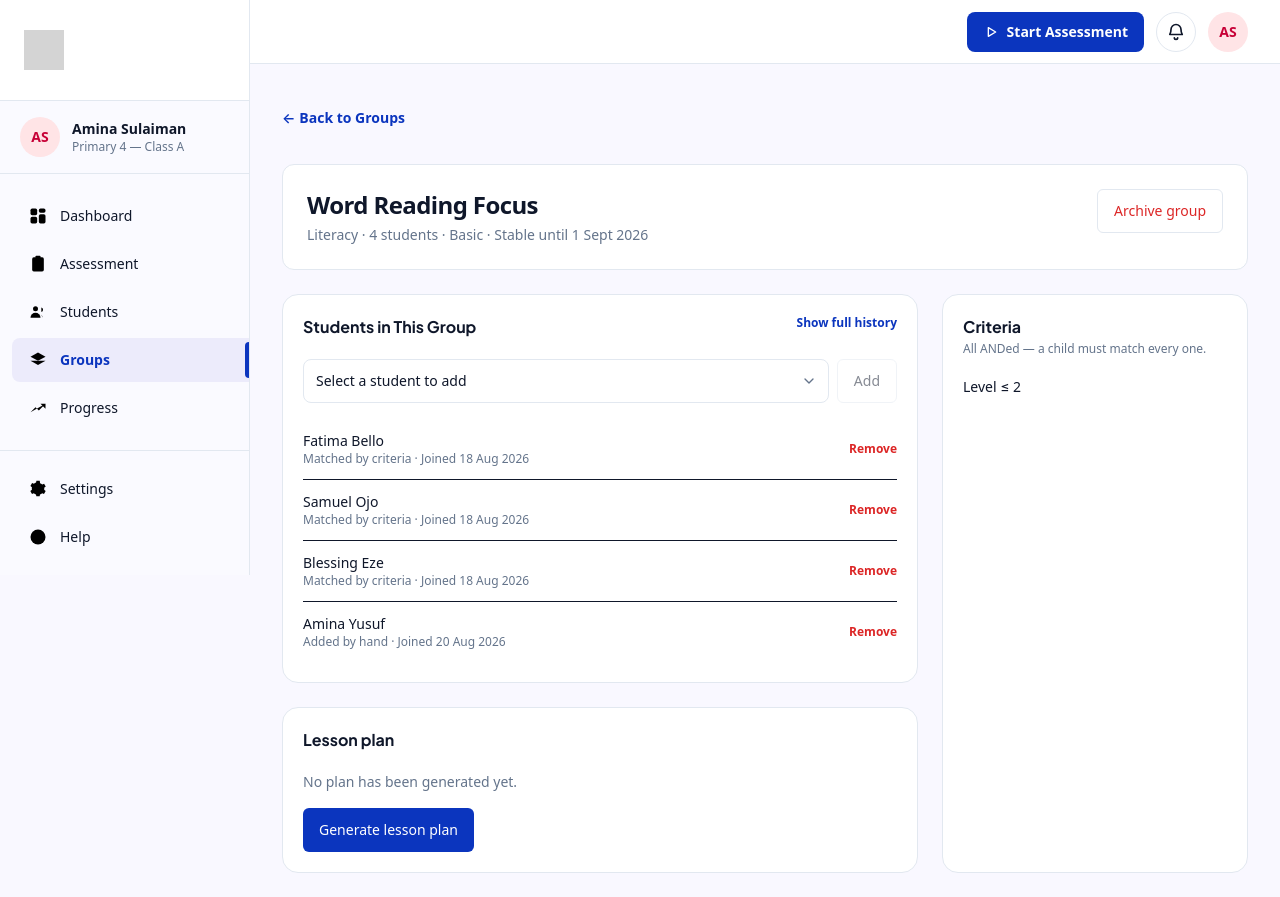
GroupDetailPage › generates a lesson plan when none exists yet
The width and height of the screenshot is (1280, 897).
Expected: the heading "Word Reading Focus" is shown, [307, 189, 538, 221]
Expected: the text "No plan has been generated yet." is shown, [303, 772, 517, 791]
Click the button "Generate lesson plan" at [388, 830], box [303, 808, 474, 852]
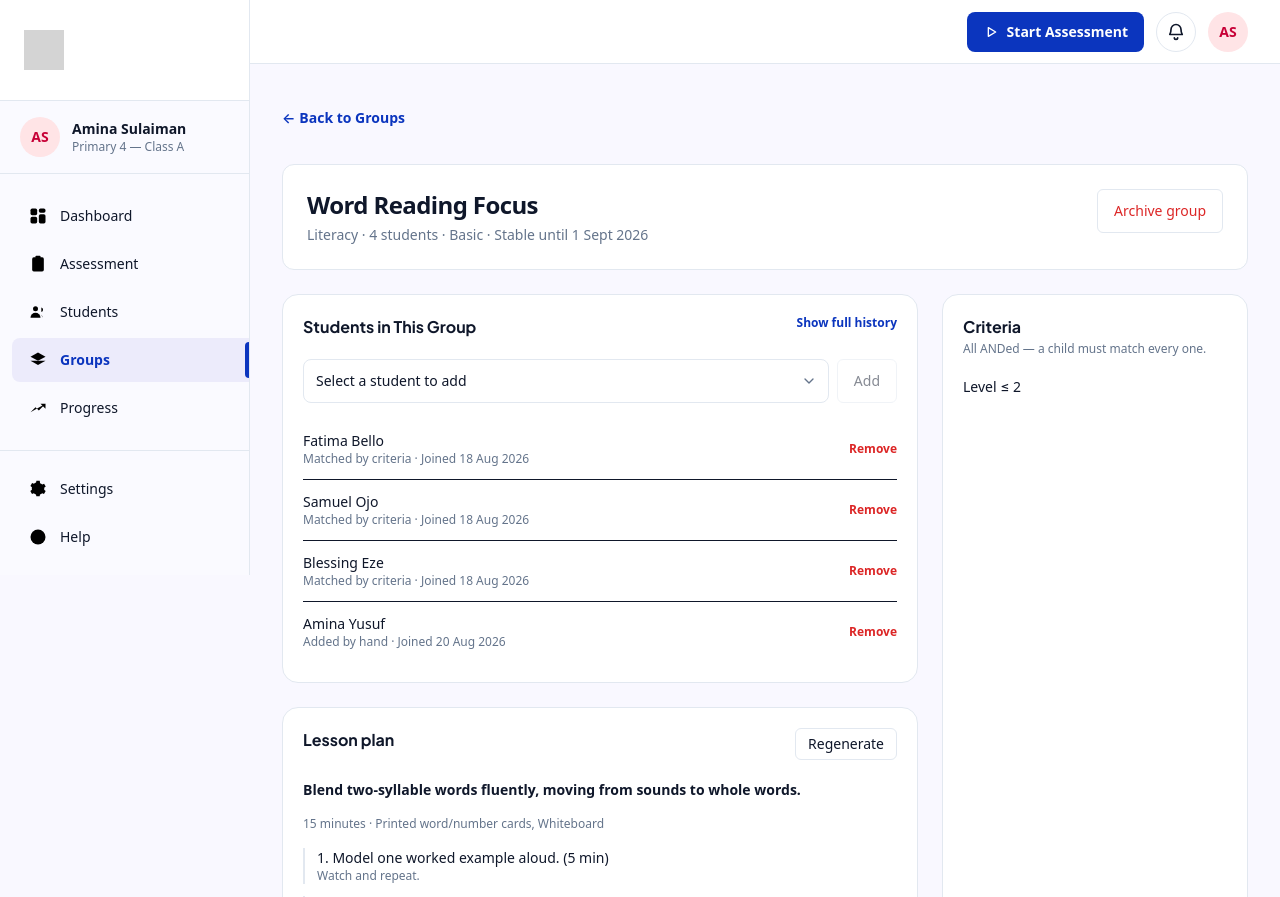
Expected: the heading "Lesson plan" is shown, [303, 728, 394, 752]
Now the text "Blend two-syllable words fluently" is shown, box [303, 780, 801, 799]
